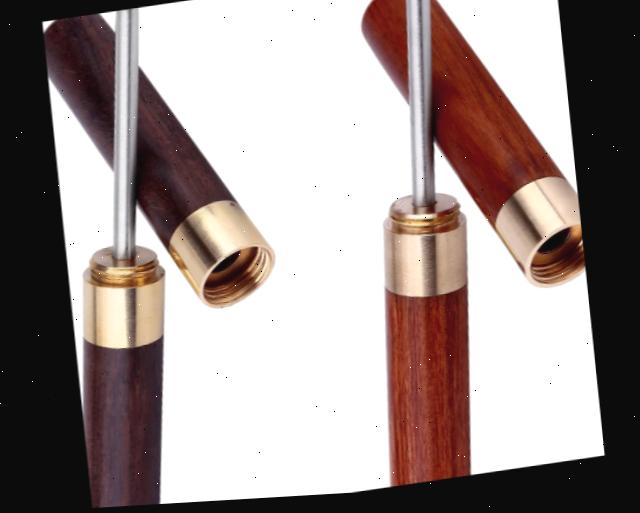ice pick: (330, 0, 491, 494), (42, 0, 277, 329), (43, 5, 190, 511), (357, 0, 586, 312)
